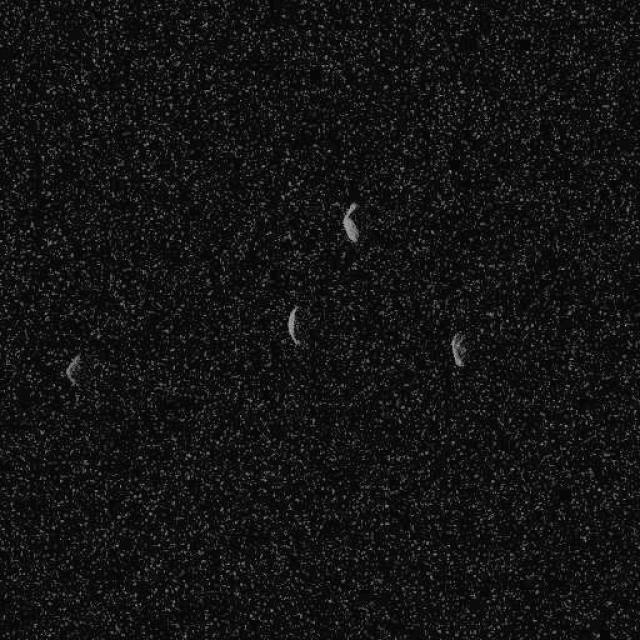D2: (340, 200, 360, 244), (448, 330, 468, 368), (64, 350, 84, 388), (286, 305, 302, 346)
